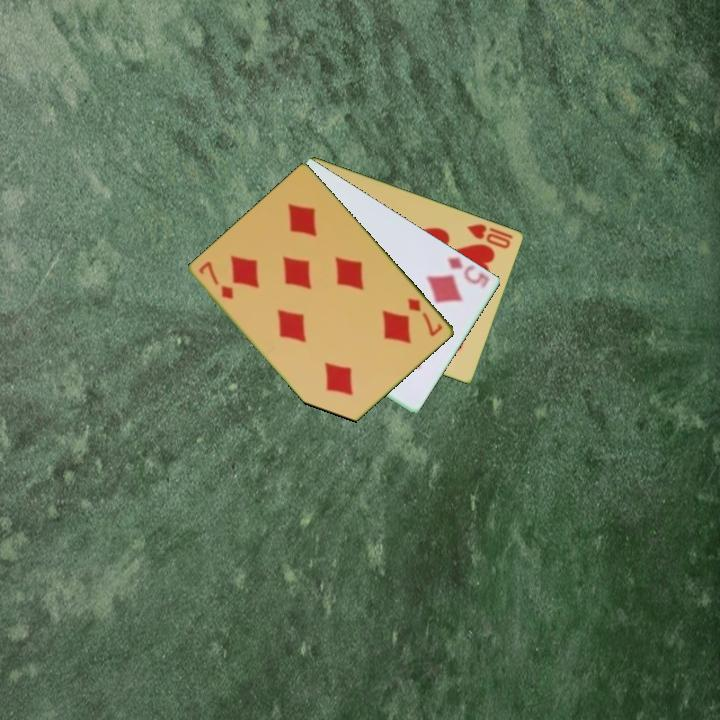10h: (463, 220, 514, 251)
5d: (443, 253, 493, 288)
7d: (404, 294, 446, 340), (195, 258, 237, 302)
